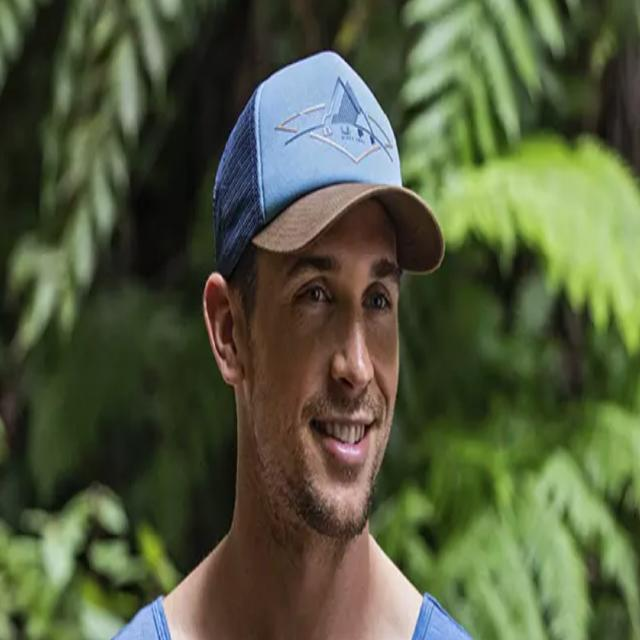mask: (198, 48, 457, 337)
